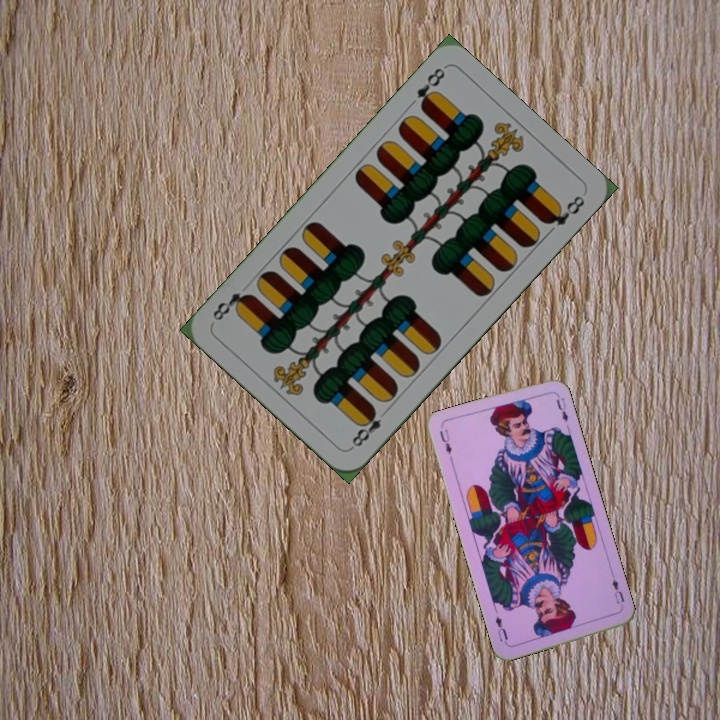E8: (412, 63, 448, 113), (347, 404, 385, 451)
EU: (608, 575, 627, 607), (435, 425, 454, 457)
